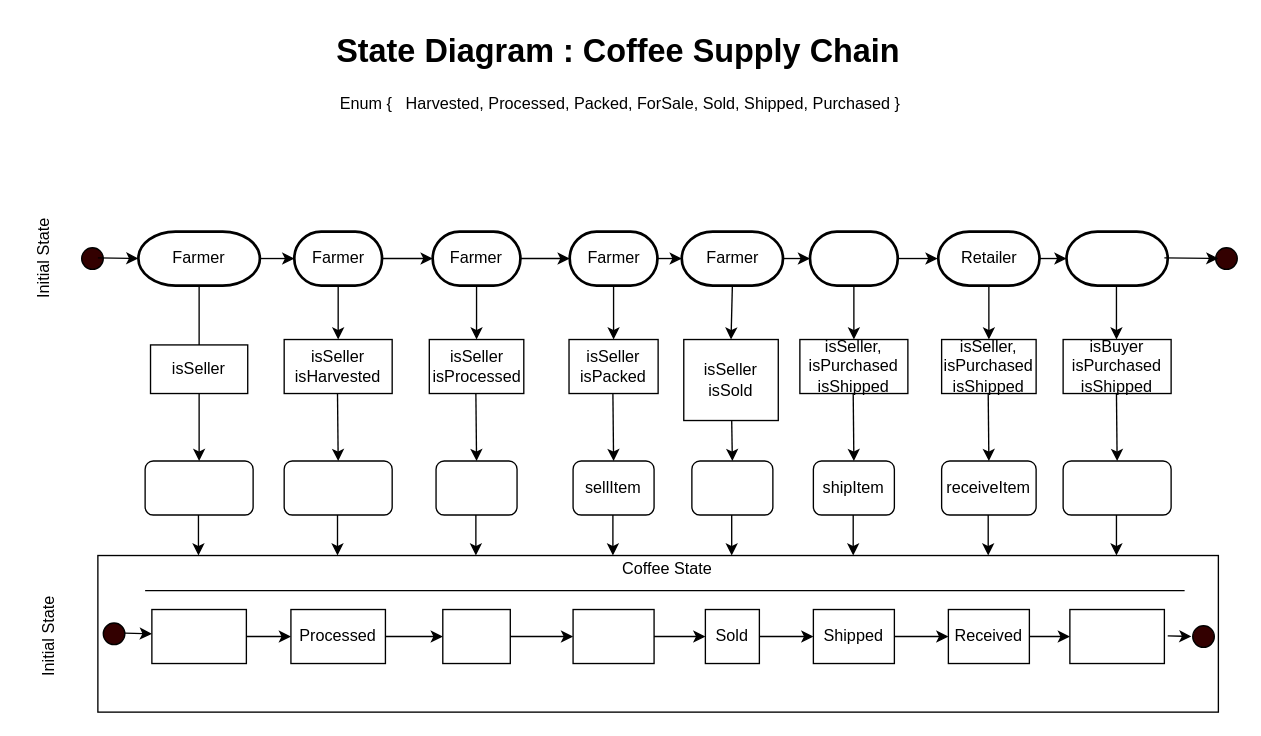
This 1261x736 diagram has some shape labels left out. The shapes that lost their labels are listed below. From the top down, each one's centre as x and y in pixels, then its label:
At point (853, 258): "Distributor".
At point (1116, 258): "Consumer".
At point (198, 487): "harvestItem".
At point (337, 487): "processItem".
At point (476, 487): "packItem".
At point (732, 487): "buyItem".
At point (1116, 487): "purchaseItem".
At point (198, 636): "Harvested".
At point (475, 636): "Packed".
At point (613, 636): "ForSale".
At point (1116, 636): "Purchased".
